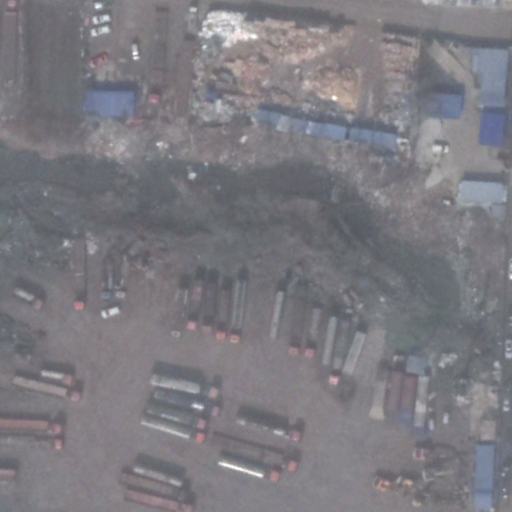msw: (200, 11, 367, 121)
